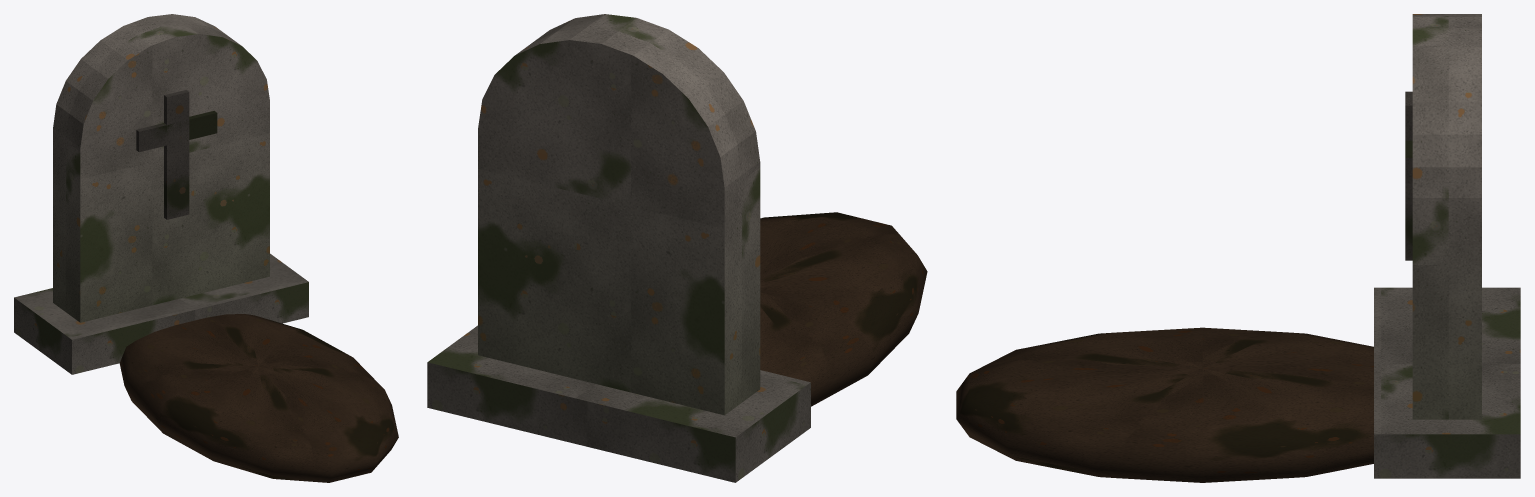
The model's file is 5a171c64-8eee-4175-b9f1-7553e5c8fae8.glb.
3 renders of one model, left to right at view 1: azimuth 30°, elevation 25°; view 2: azimuth 150°, elevation 25°; view 3: azimuth 270°, elevation 25°, orthographic. The views are drawn at different scales.
Parts seen in each view (by area): view 1: Grave; view 2: Grave; view 3: Grave.
Part boxes in pixels (box(x1,y1,x2,y2)): Grave: box(14, 14, 398, 482); Grave: box(427, 14, 927, 482); Grave: box(956, 14, 1520, 482).
Size of the model in its own units: 0.85 by 1.12 by 1.38.
Materials: 1 (1 with a texture image).
